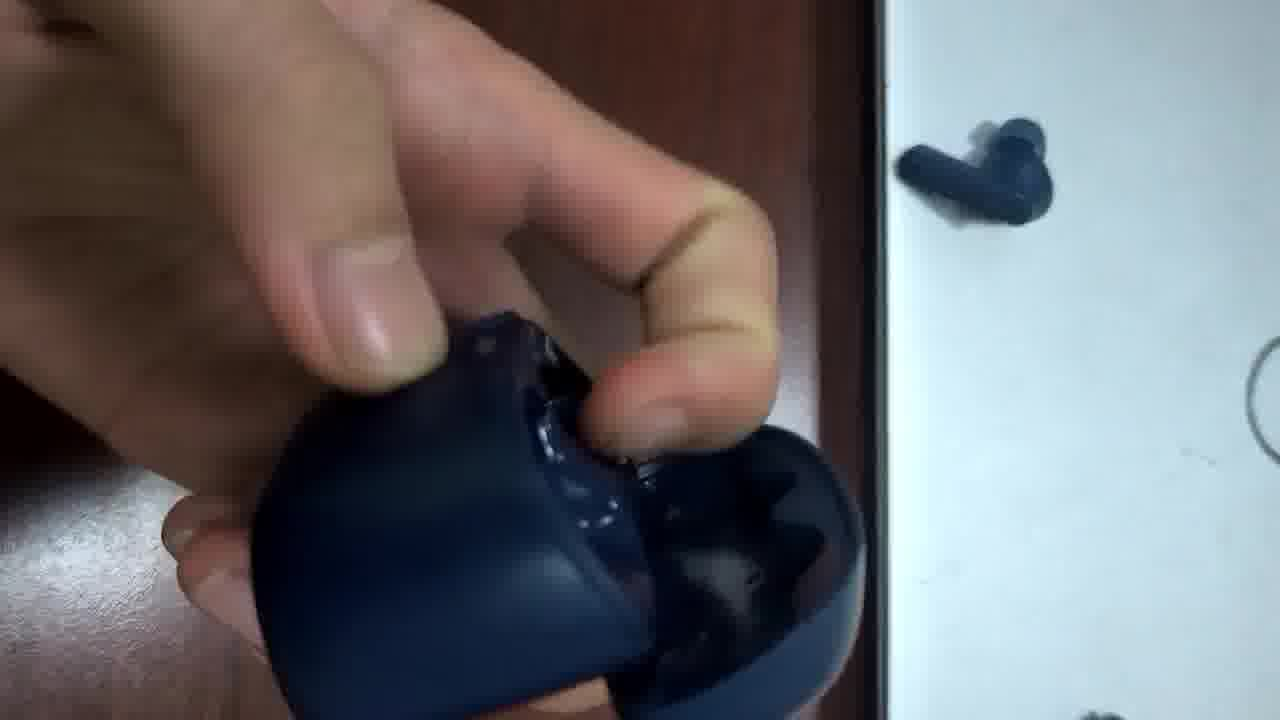Case: (250, 313, 864, 718)
Earbud: (896, 118, 1052, 223)
